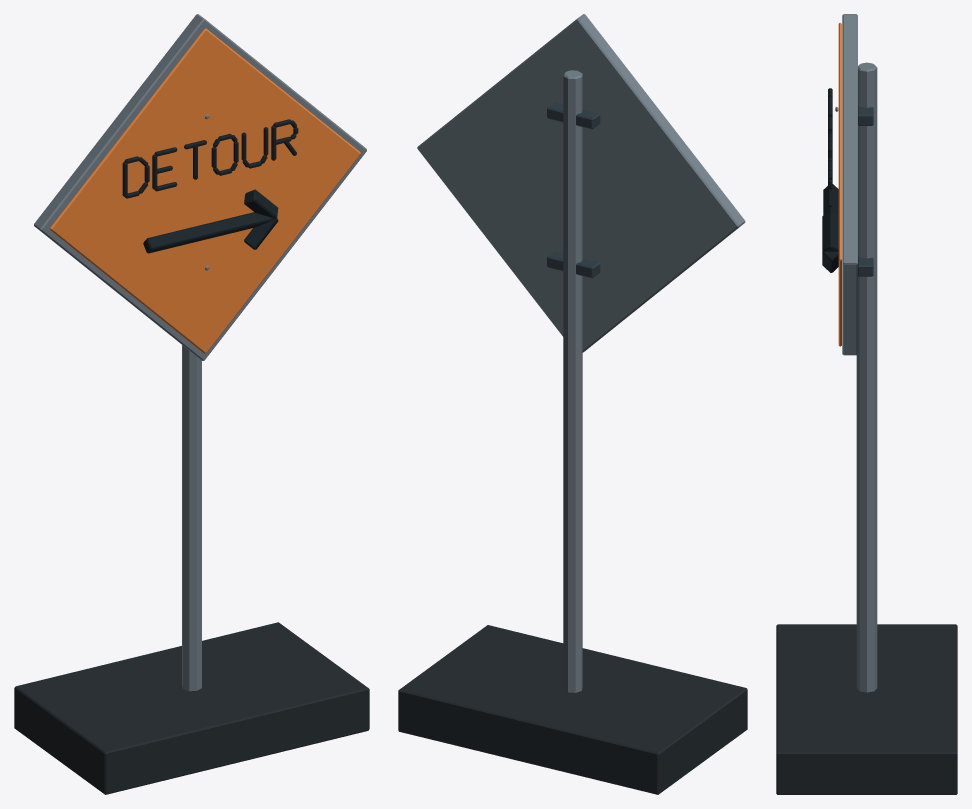
Rendered from b02_construction_detour_sign.glb.
The picture shows the model from 3 angles, left to right: view 1: azimuth 30°, elevation 25°; view 2: azimuth 150°, elevation 25°; view 3: azimuth 270°, elevation 25°; orthographic projection.
Visible parts, largest first — view 1: b02_construction_detour_sign; view 2: b02_construction_detour_sign; view 3: b02_construction_detour_sign.
Part boxes in pixels (x1,y1,x2,y2): b02_construction_detour_sign: (14, 14, 369, 794); b02_construction_detour_sign: (398, 14, 747, 794); b02_construction_detour_sign: (776, 14, 957, 794).
Bounding box in the file's own units: 1.03 × 2.18 × 0.5.
